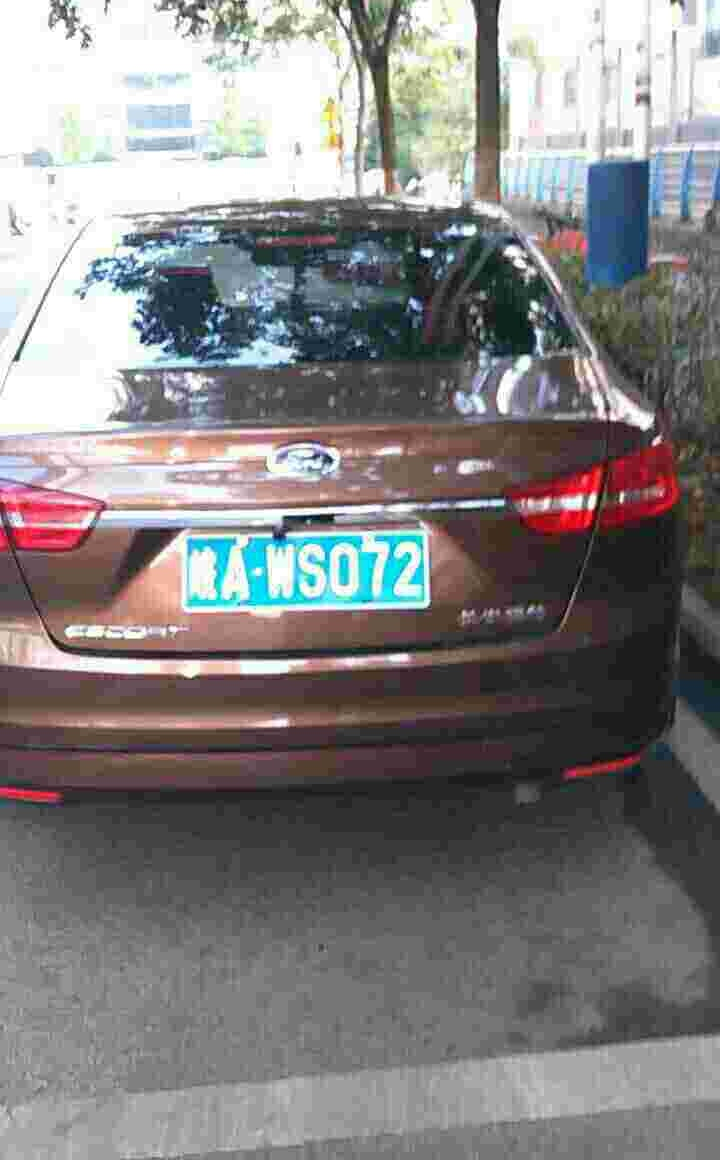license_plate: (192, 532, 434, 608)
